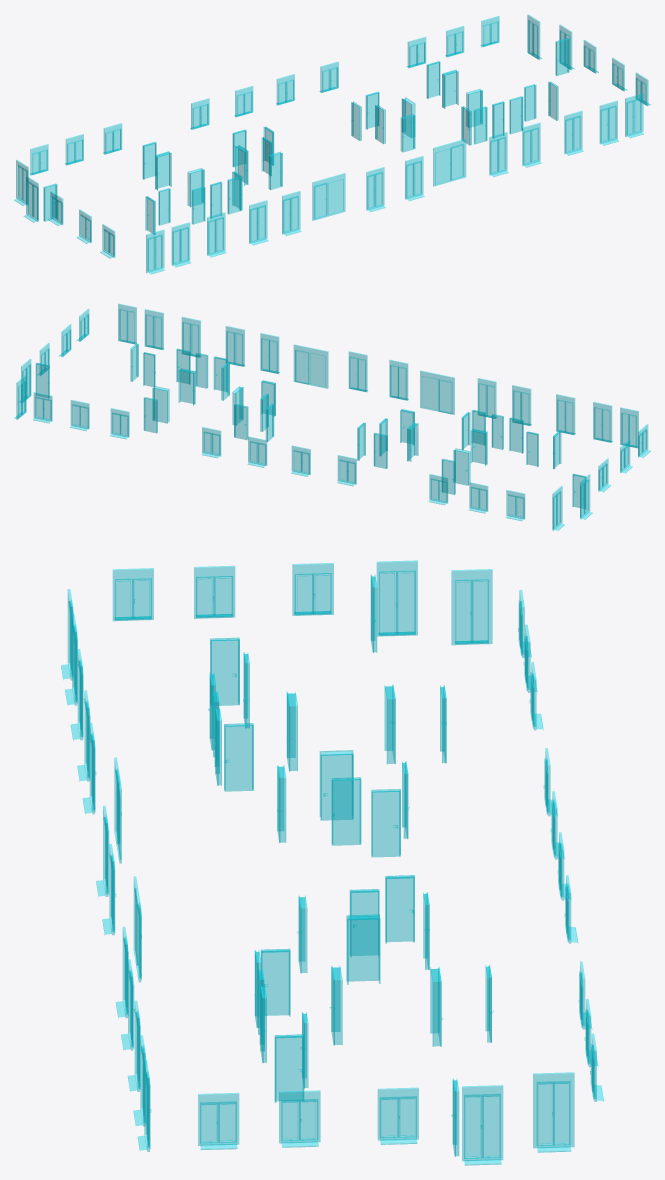
File: GroundFloor_openings.glb
3 views of the same model, one above another, from view 1: azimuth 30°, elevation 25°; view 2: azimuth 150°, elevation 25°; view 3: azimuth 270°, elevation 25° (orthographic). The views are drawn at different scales.
Visible parts, largest first — view 1: world; view 2: world; view 3: world.
Part boxes in pixels (bbox=[...]): world: bbox=[14, 14, 650, 274]; world: bbox=[14, 303, 650, 530]; world: bbox=[61, 560, 603, 1165].
Bounding box in the file's own units: 40.19 × 2.61 × 17.06.
